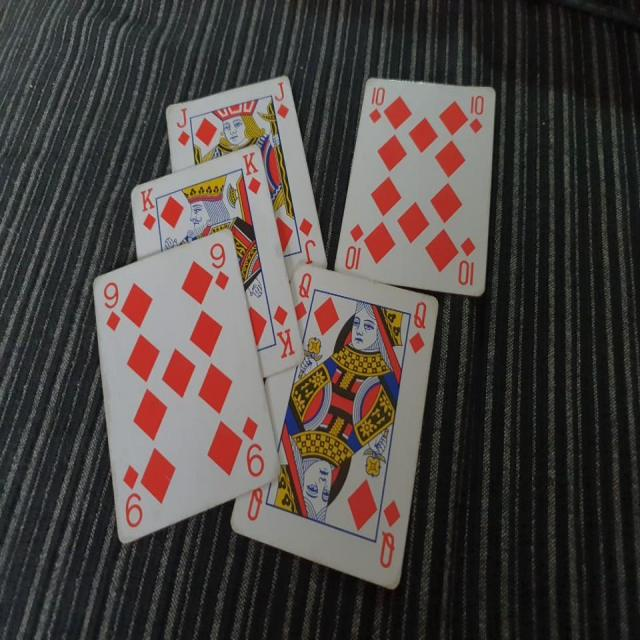10 Diamonds: (333, 72, 496, 295)
9 Diamonds: (91, 224, 282, 543)
J Diamonds: (164, 68, 328, 274)
K Diamonds: (129, 143, 305, 382)
Q Diamonds: (227, 260, 440, 592)
